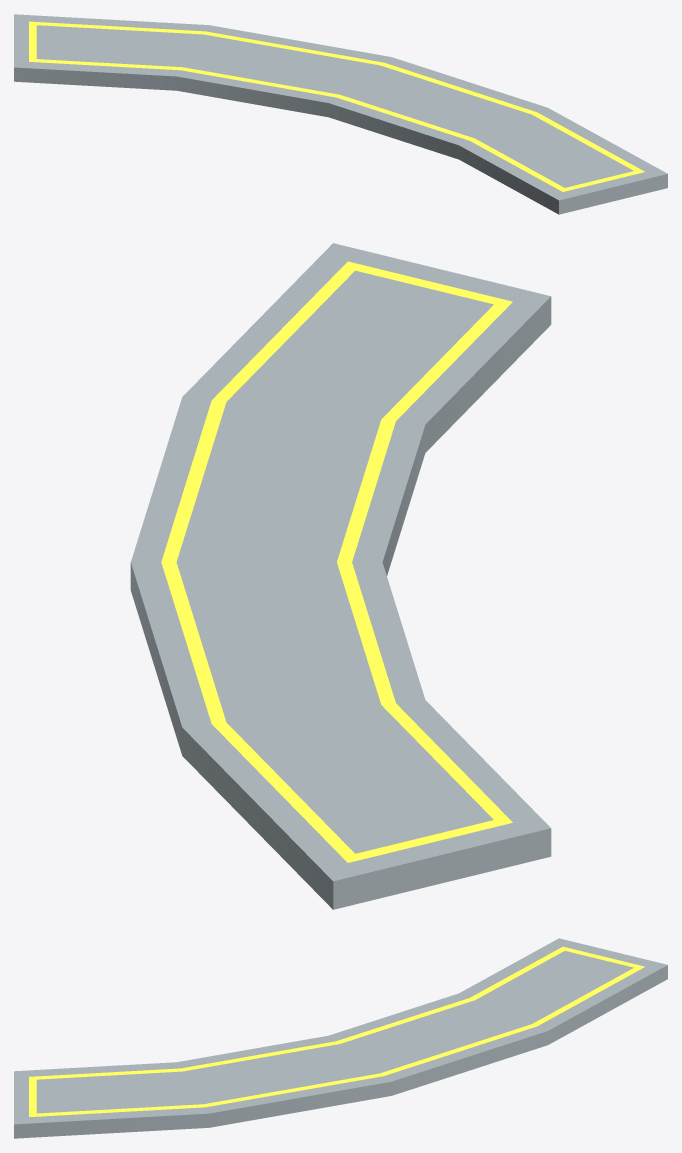
File: SM_Platform60DegreeBendBig_v0.fbx
3 renders of one model, top to bottom at view 1: azimuth 30°, elevation 25°; view 2: azimuth 150°, elevation 25°; view 3: azimuth 270°, elevation 25°, orthographic. The views are drawn at different scales.
Parts seen in each view (by area): view 1: SM_Platform60DegreeBendBig_v0; view 2: SM_Platform60DegreeBendBig_v0; view 3: SM_Platform60DegreeBendBig_v0.
Boxes of the visible parts, left/top/right/bottom form: SM_Platform60DegreeBendBig_v0: left=14, top=14, right=667, bottom=214; SM_Platform60DegreeBendBig_v0: left=130, top=243, right=551, bottom=909; SM_Platform60DegreeBendBig_v0: left=14, top=938, right=667, bottom=1138.
Size of the model in its own units: 3.5 by 0.125 by 5.2.
